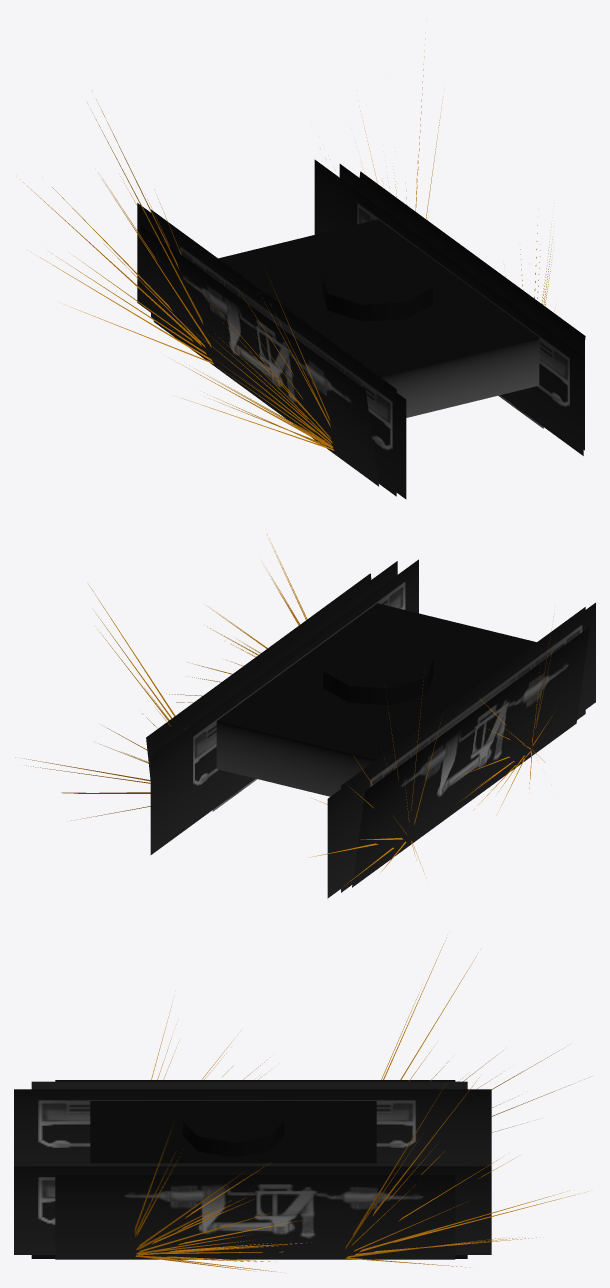
The model's file is TRACK2000.glb.
3 renders of one model, top to bottom at view 1: azimuth 30°, elevation 25°; view 2: azimuth 150°, elevation 25°; view 3: azimuth 270°, elevation 25°, orthographic. The views are drawn at different scales.
Visible parts, largest first — view 1: trackbase, Fire0_R_0, Fire1_R_1; view 2: trackbase, Fire1_L_0, Fire0_R_0; view 3: trackbase, Fire0_L_0, Fire1_L_1, Fire0_L_1, Fire1_R_0.
Part boxes in pixels (<box>): trackbase: <box>137,159,585,499</box>; Fire0_R_0: <box>175,281,334,450</box>; Fire1_R_1: <box>20,103,213,364</box>; trackbase: <box>146,559,595,898</box>; Fire1_L_0: <box>24,588,175,819</box>; Fire0_R_0: <box>461,691,545,813</box>; trackbase: <box>14,1080,491,1259</box>; Fire0_L_0: <box>134,1130,306,1272</box>; Fire1_L_1: <box>345,1082,584,1267</box>; Fire0_L_1: <box>135,1130,311,1271</box>; Fire1_R_0: <box>381,938,563,1132</box>.
Size of the model in its own units: 10.41 by 6.14 by 14.92.
Materials: 14 (5 with a texture image).
